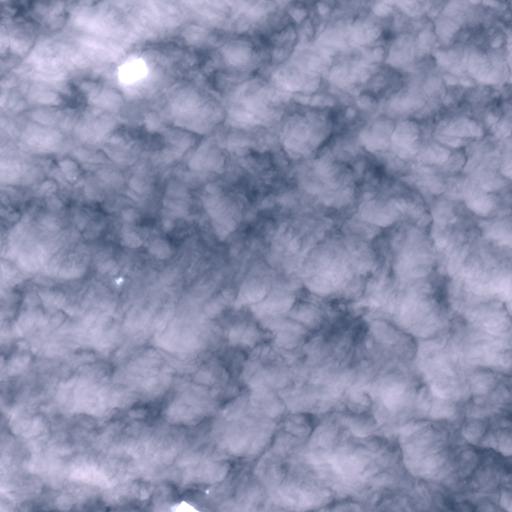Iceberg: (118, 58, 146, 84), (174, 501, 197, 511), (115, 277, 122, 284), (205, 490, 208, 493), (74, 177, 75, 179)
